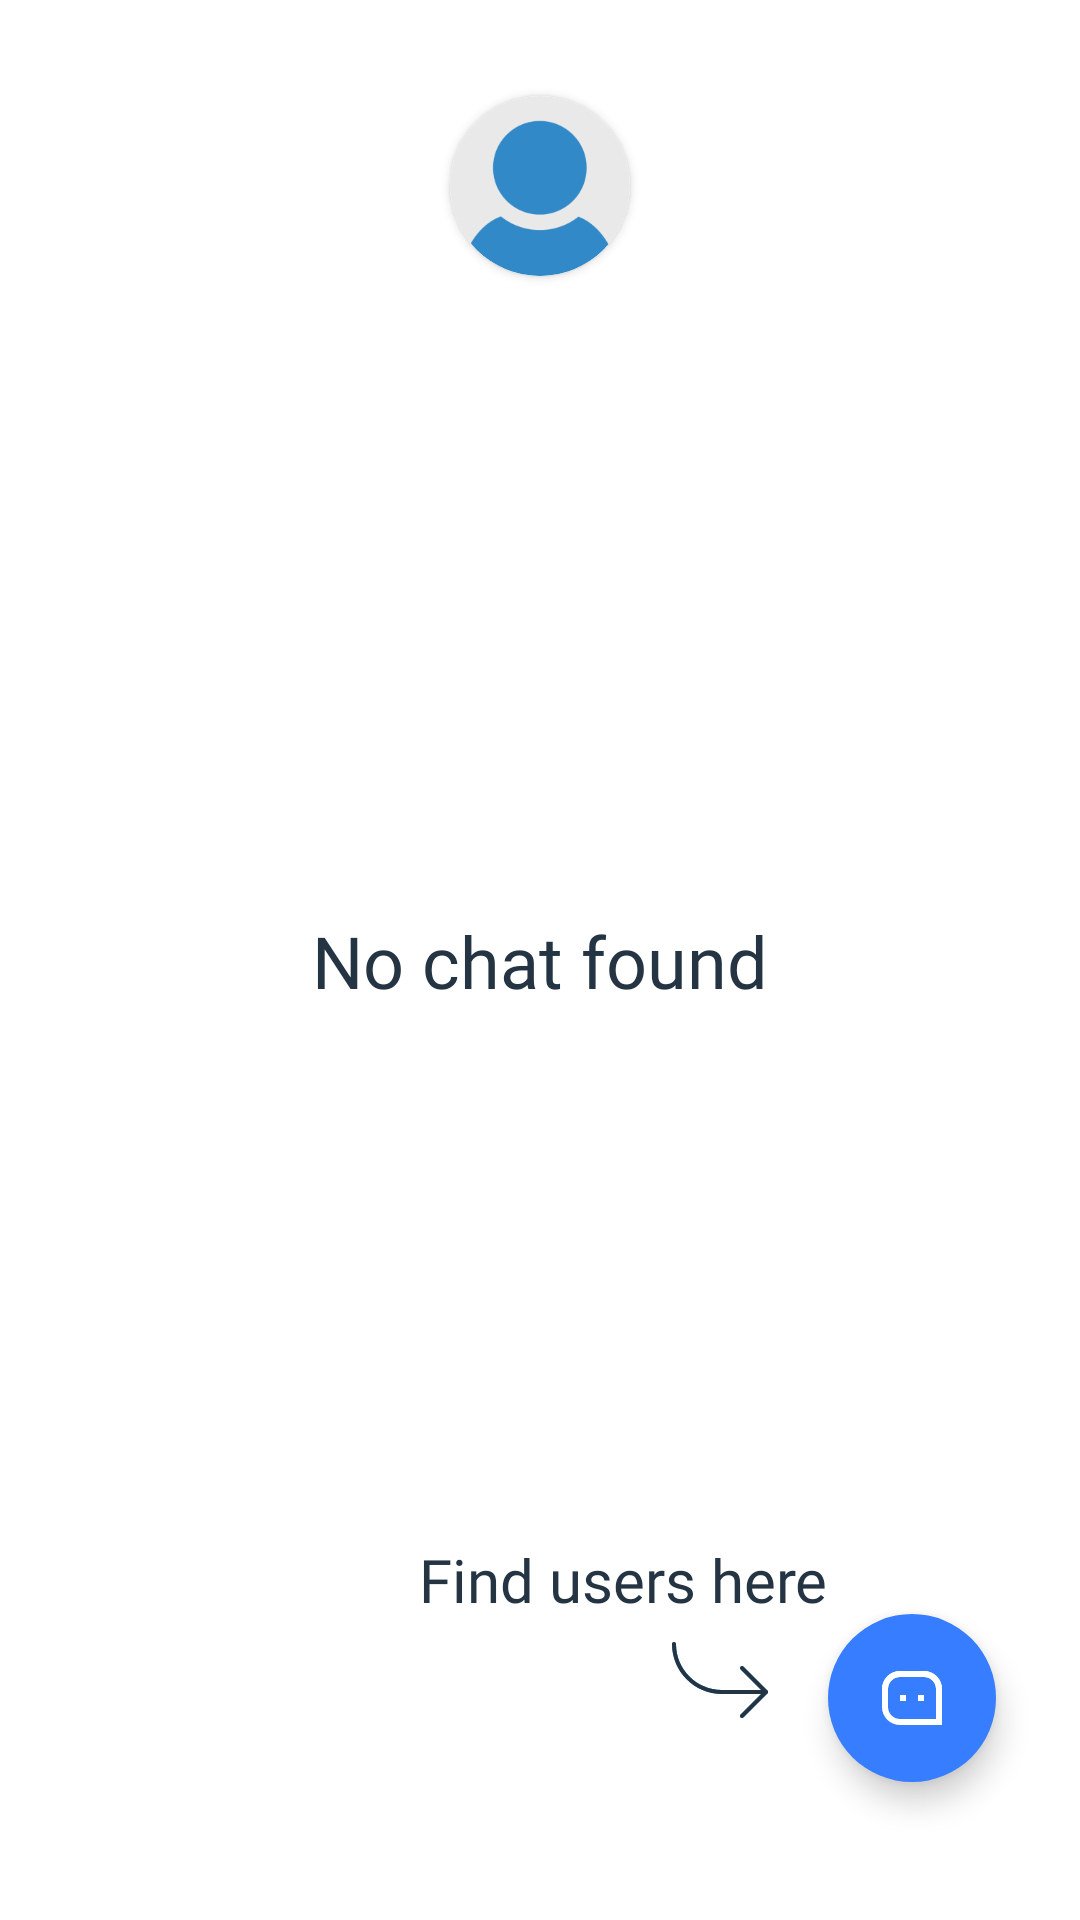

Where to tap for icons on this 1080x1920 app screen, as (x=x, y=y):
Arrow right: (x=720, y=1680)
Profile photo: (x=540, y=186)
